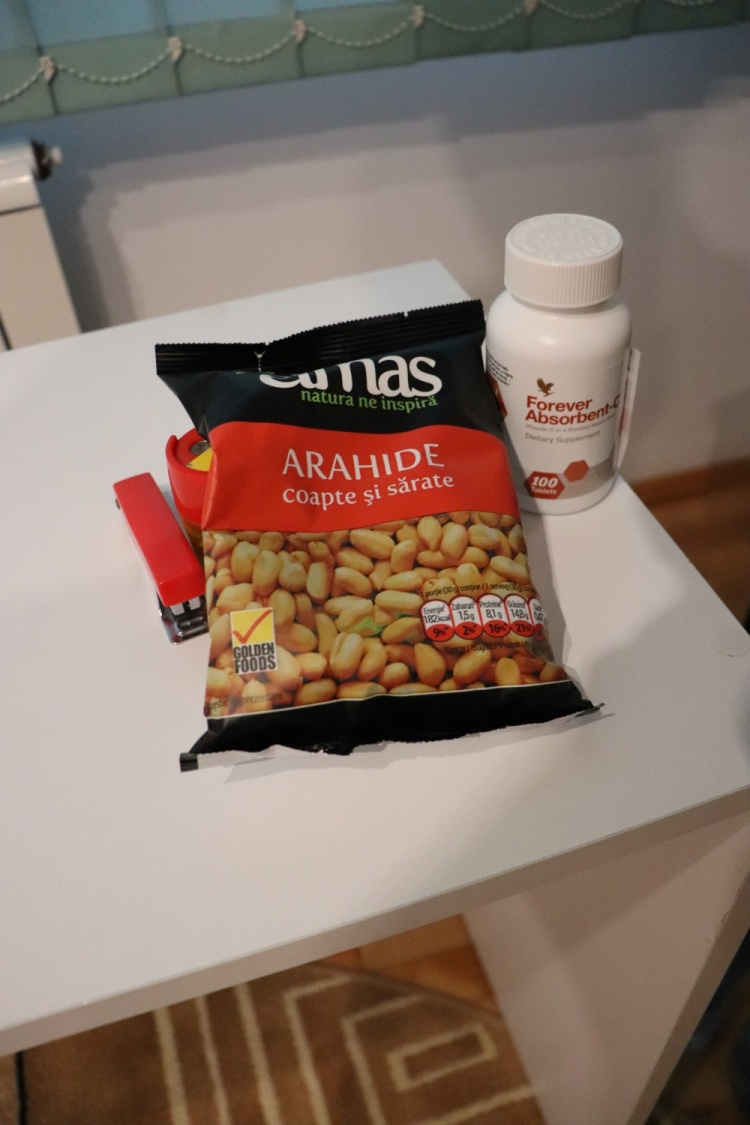peanuts: (158, 296, 605, 795)
